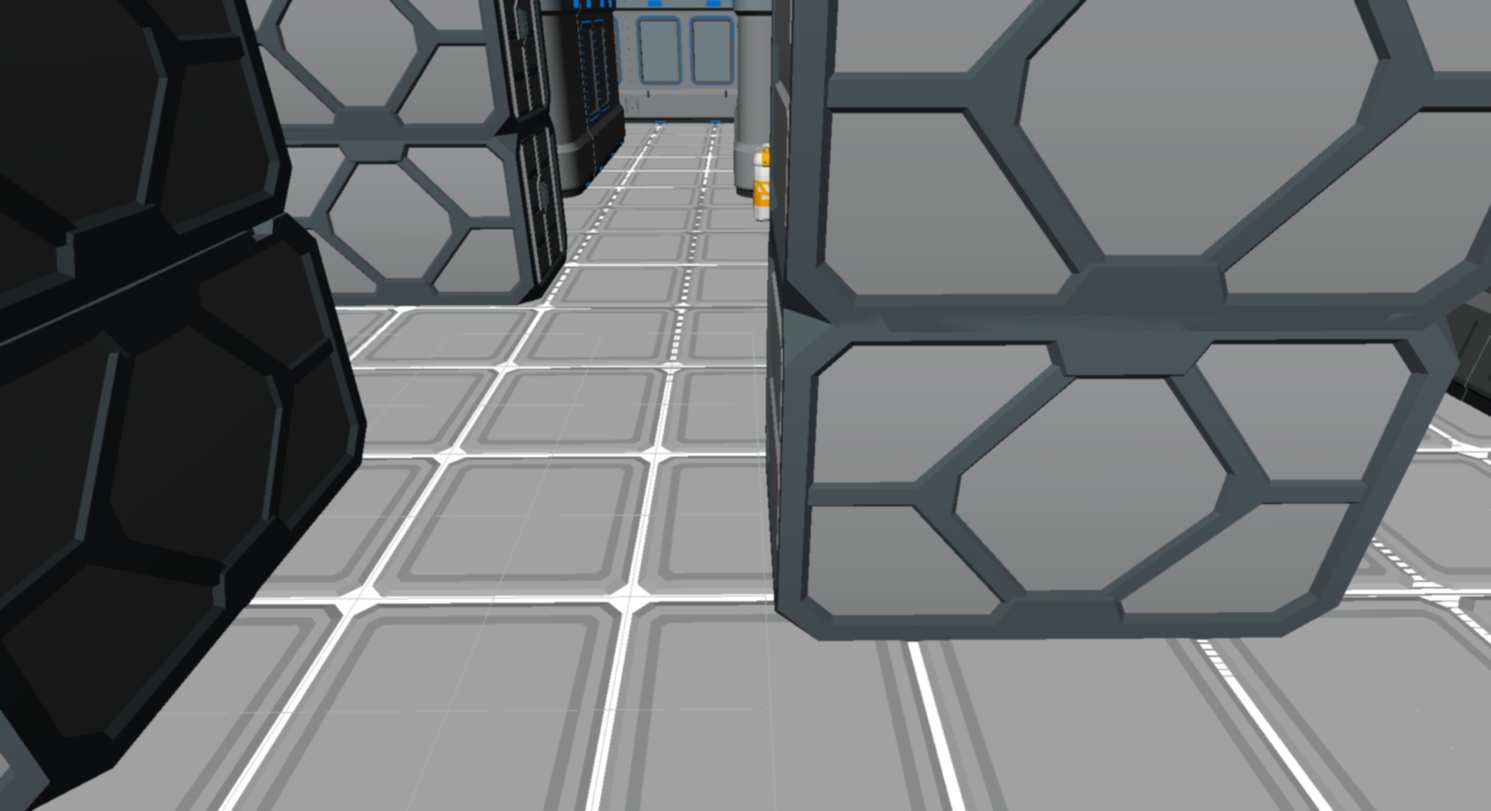yellow_barrel: (752, 143, 770, 221)
